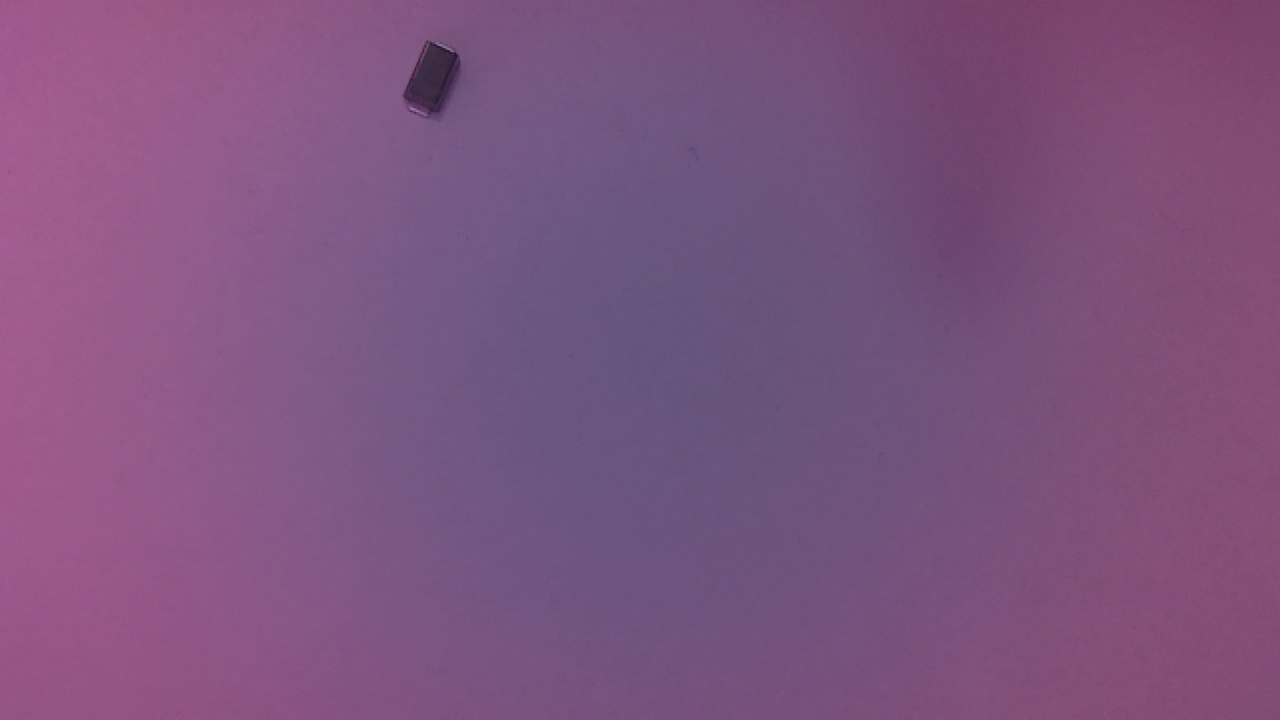Diode: (404, 42, 472, 127)
